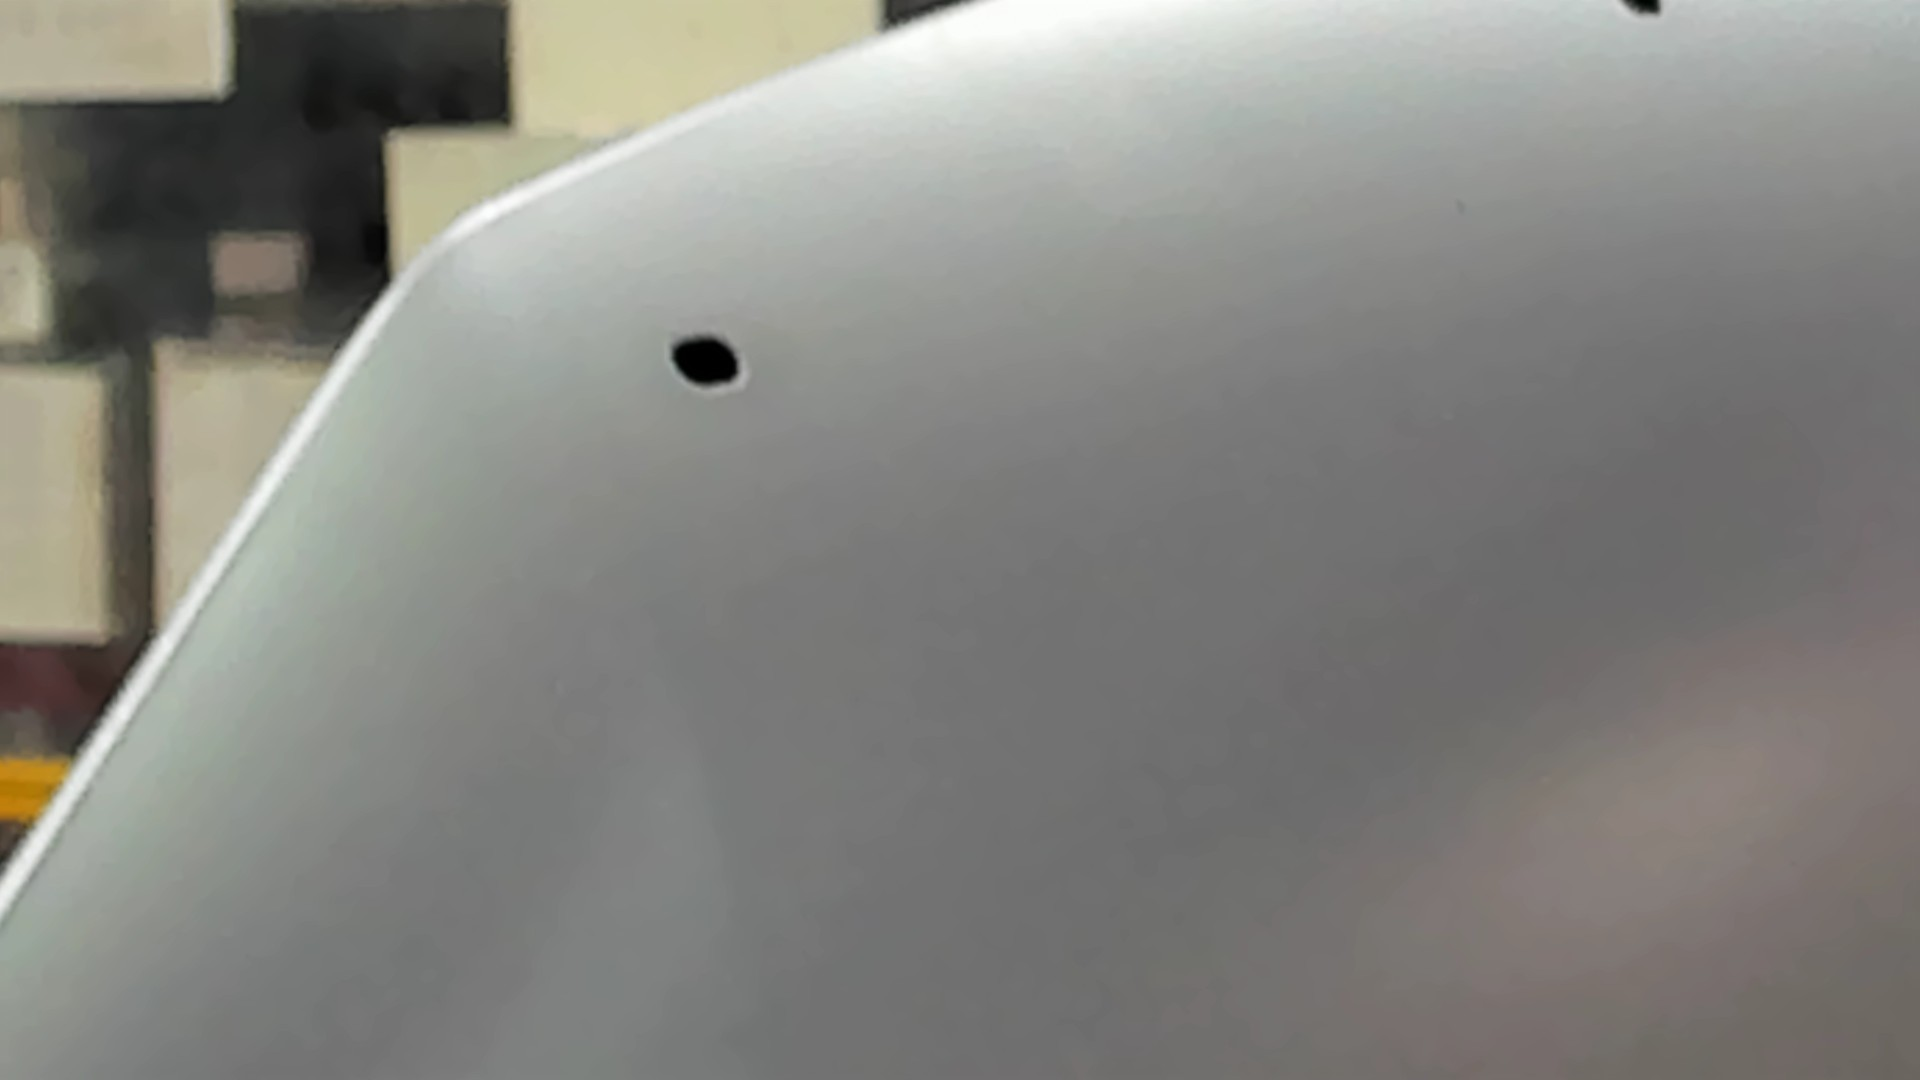amorfo: (657, 331, 746, 394), (1621, 1, 1668, 20)
